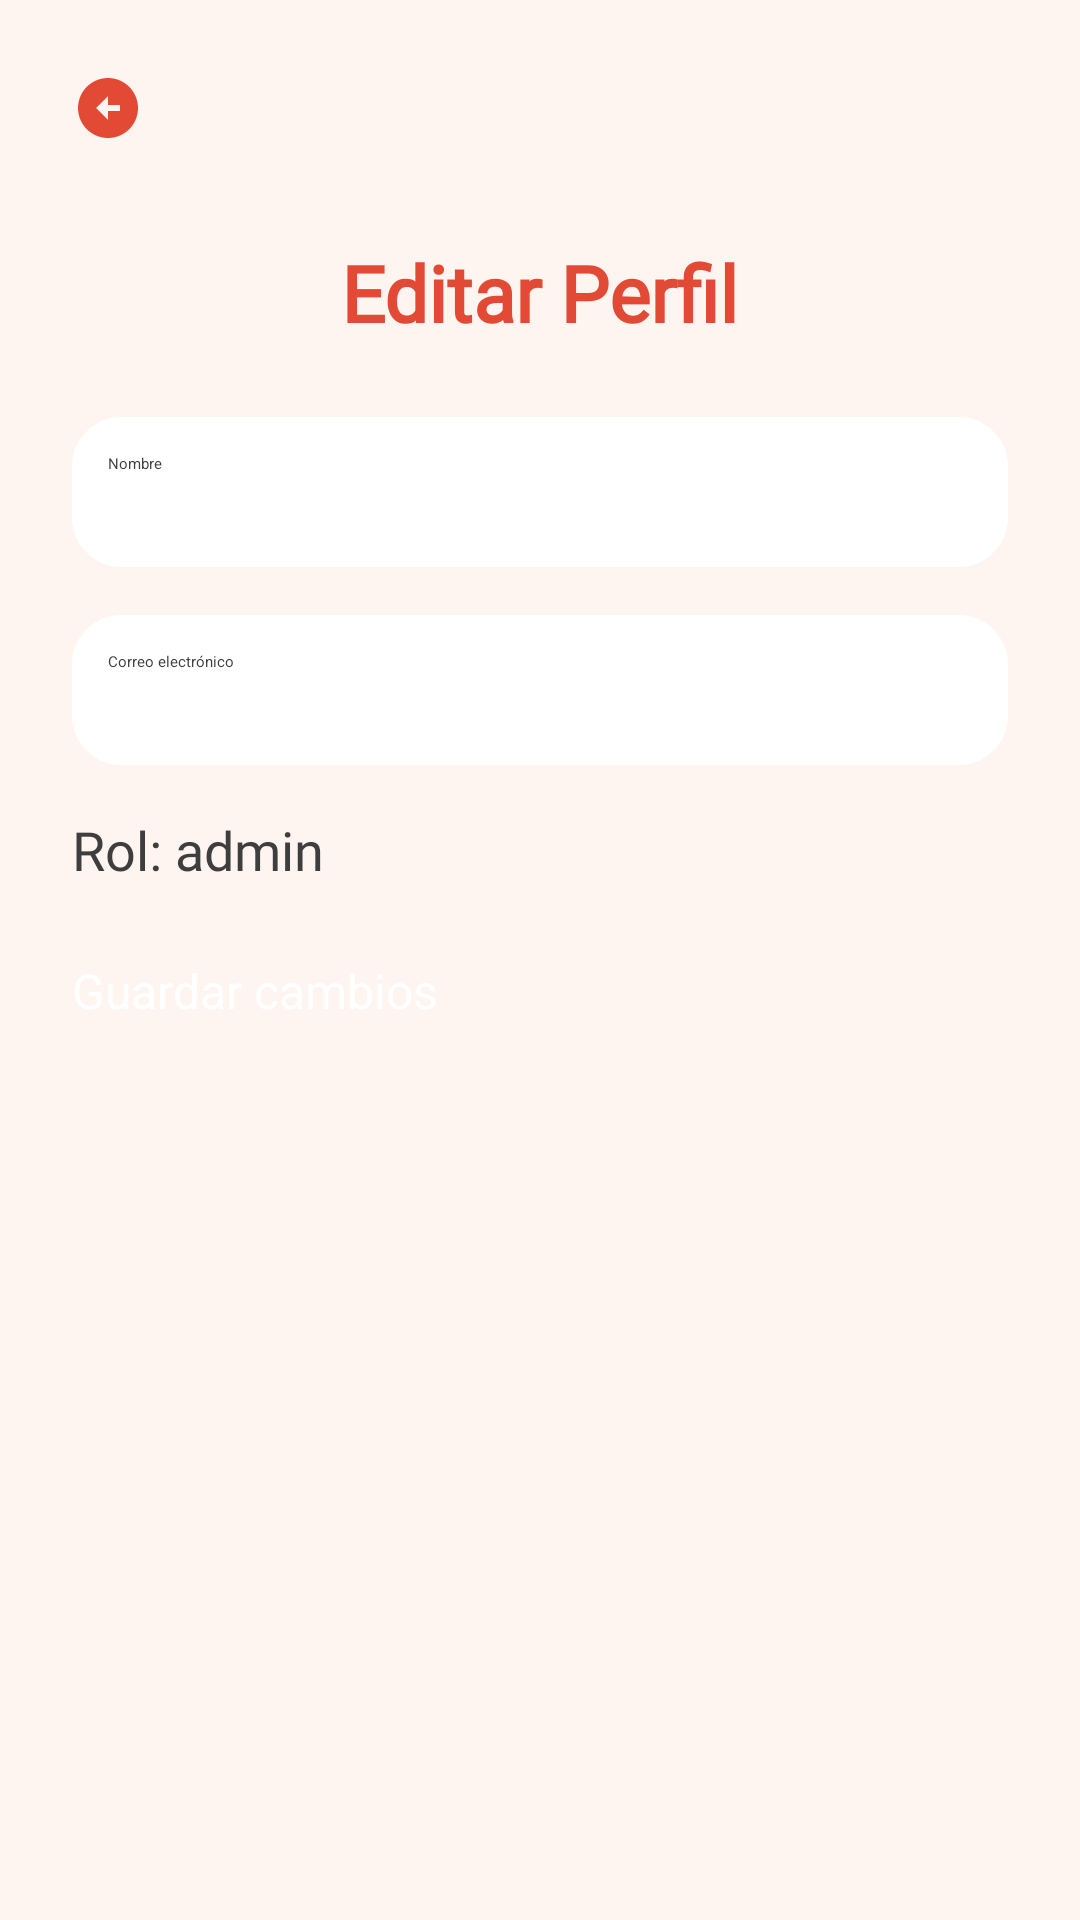

Point at icon controls on the screen. Image size 1080px×1920px, points as [x,y].
Volver: [108,108]
